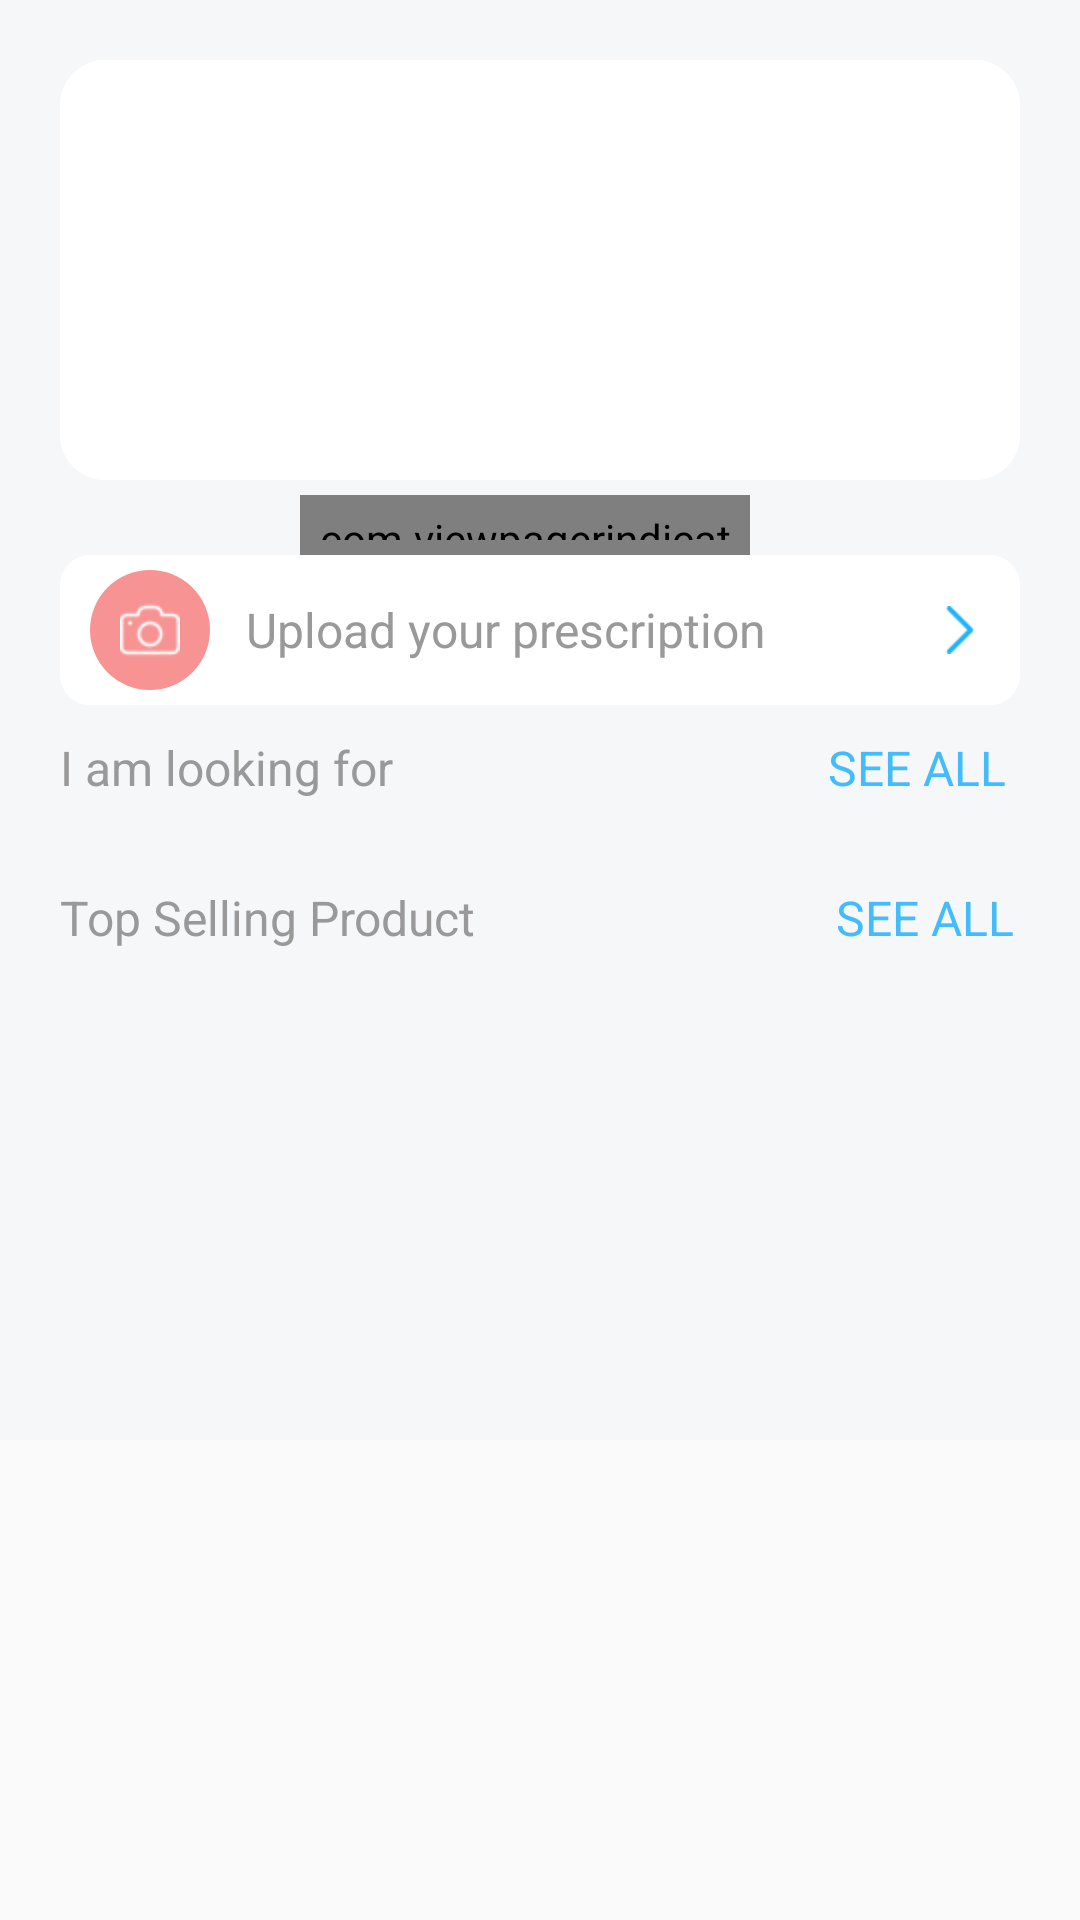

Icons on this 1080x1920 Android screen, each with the point to tap as [x,y]:
next: [960,630]
photo camera: [150,630]
